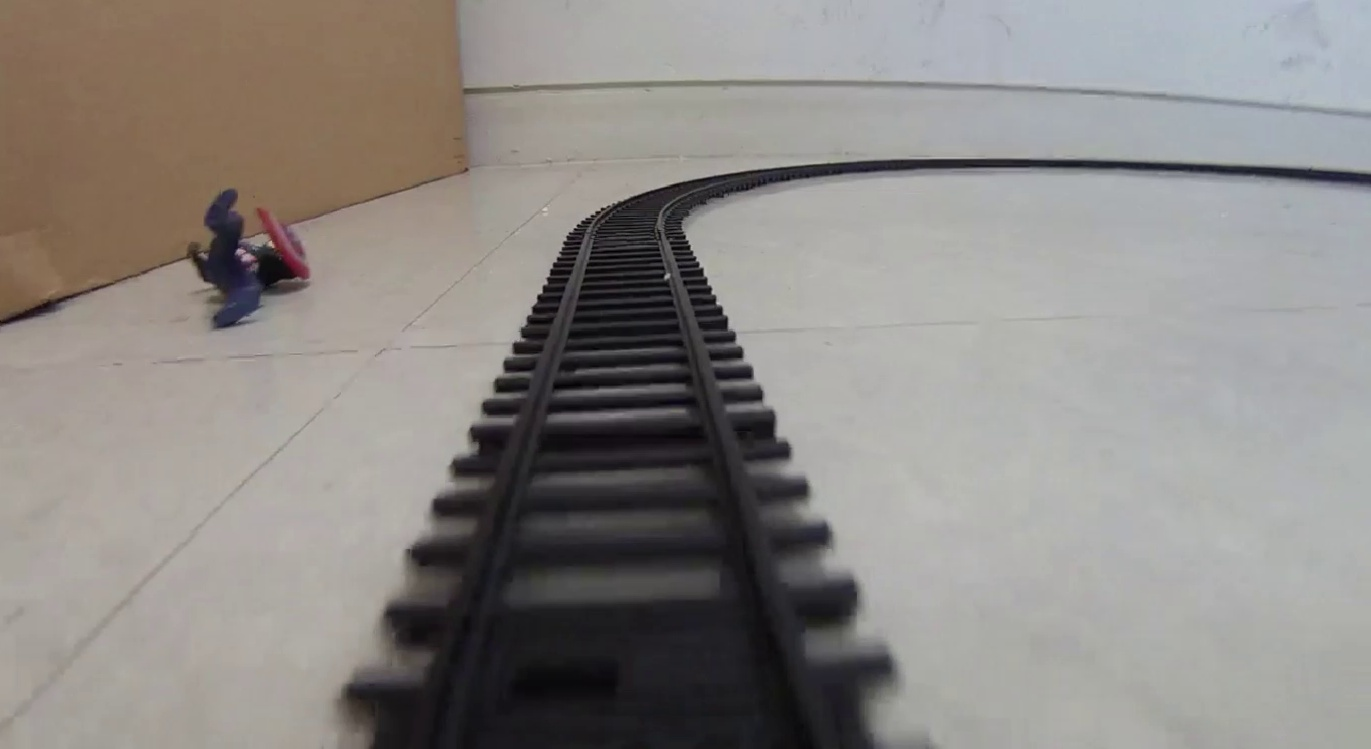people: (186, 191, 313, 330)
